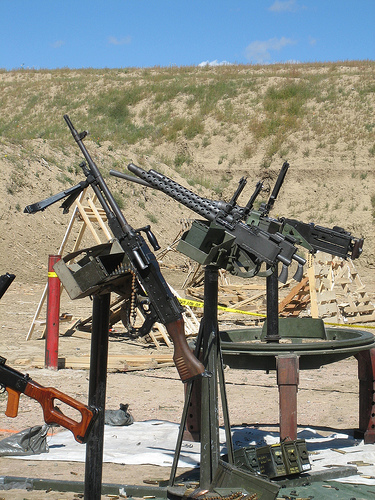rifle: (42, 125, 166, 381), (164, 160, 355, 280)
